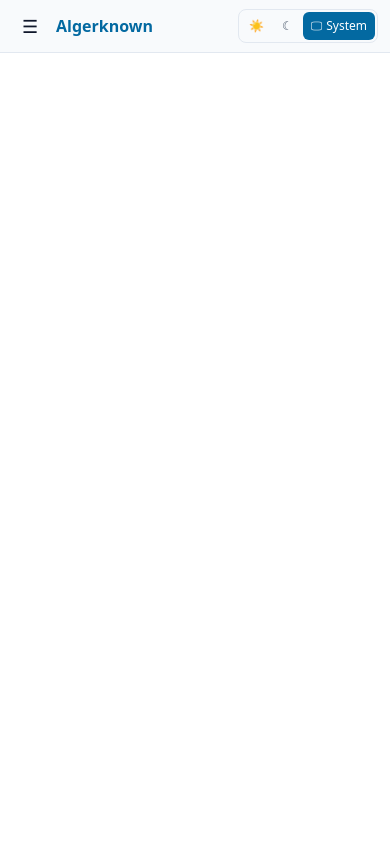
Test: Sidebar shell › explains RAG routes that are unreachable while the backend is offline
Click the button named "Open navigation menu" at (30, 26), box [12,8,48,44]
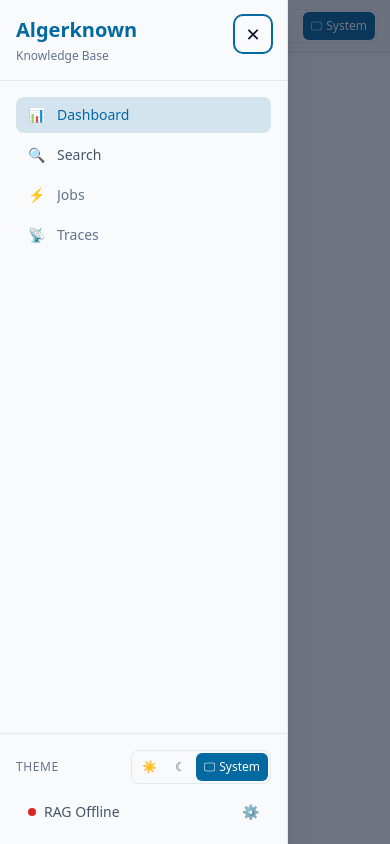
Now the text "Traces" is shown, box [57,225,99,244]
